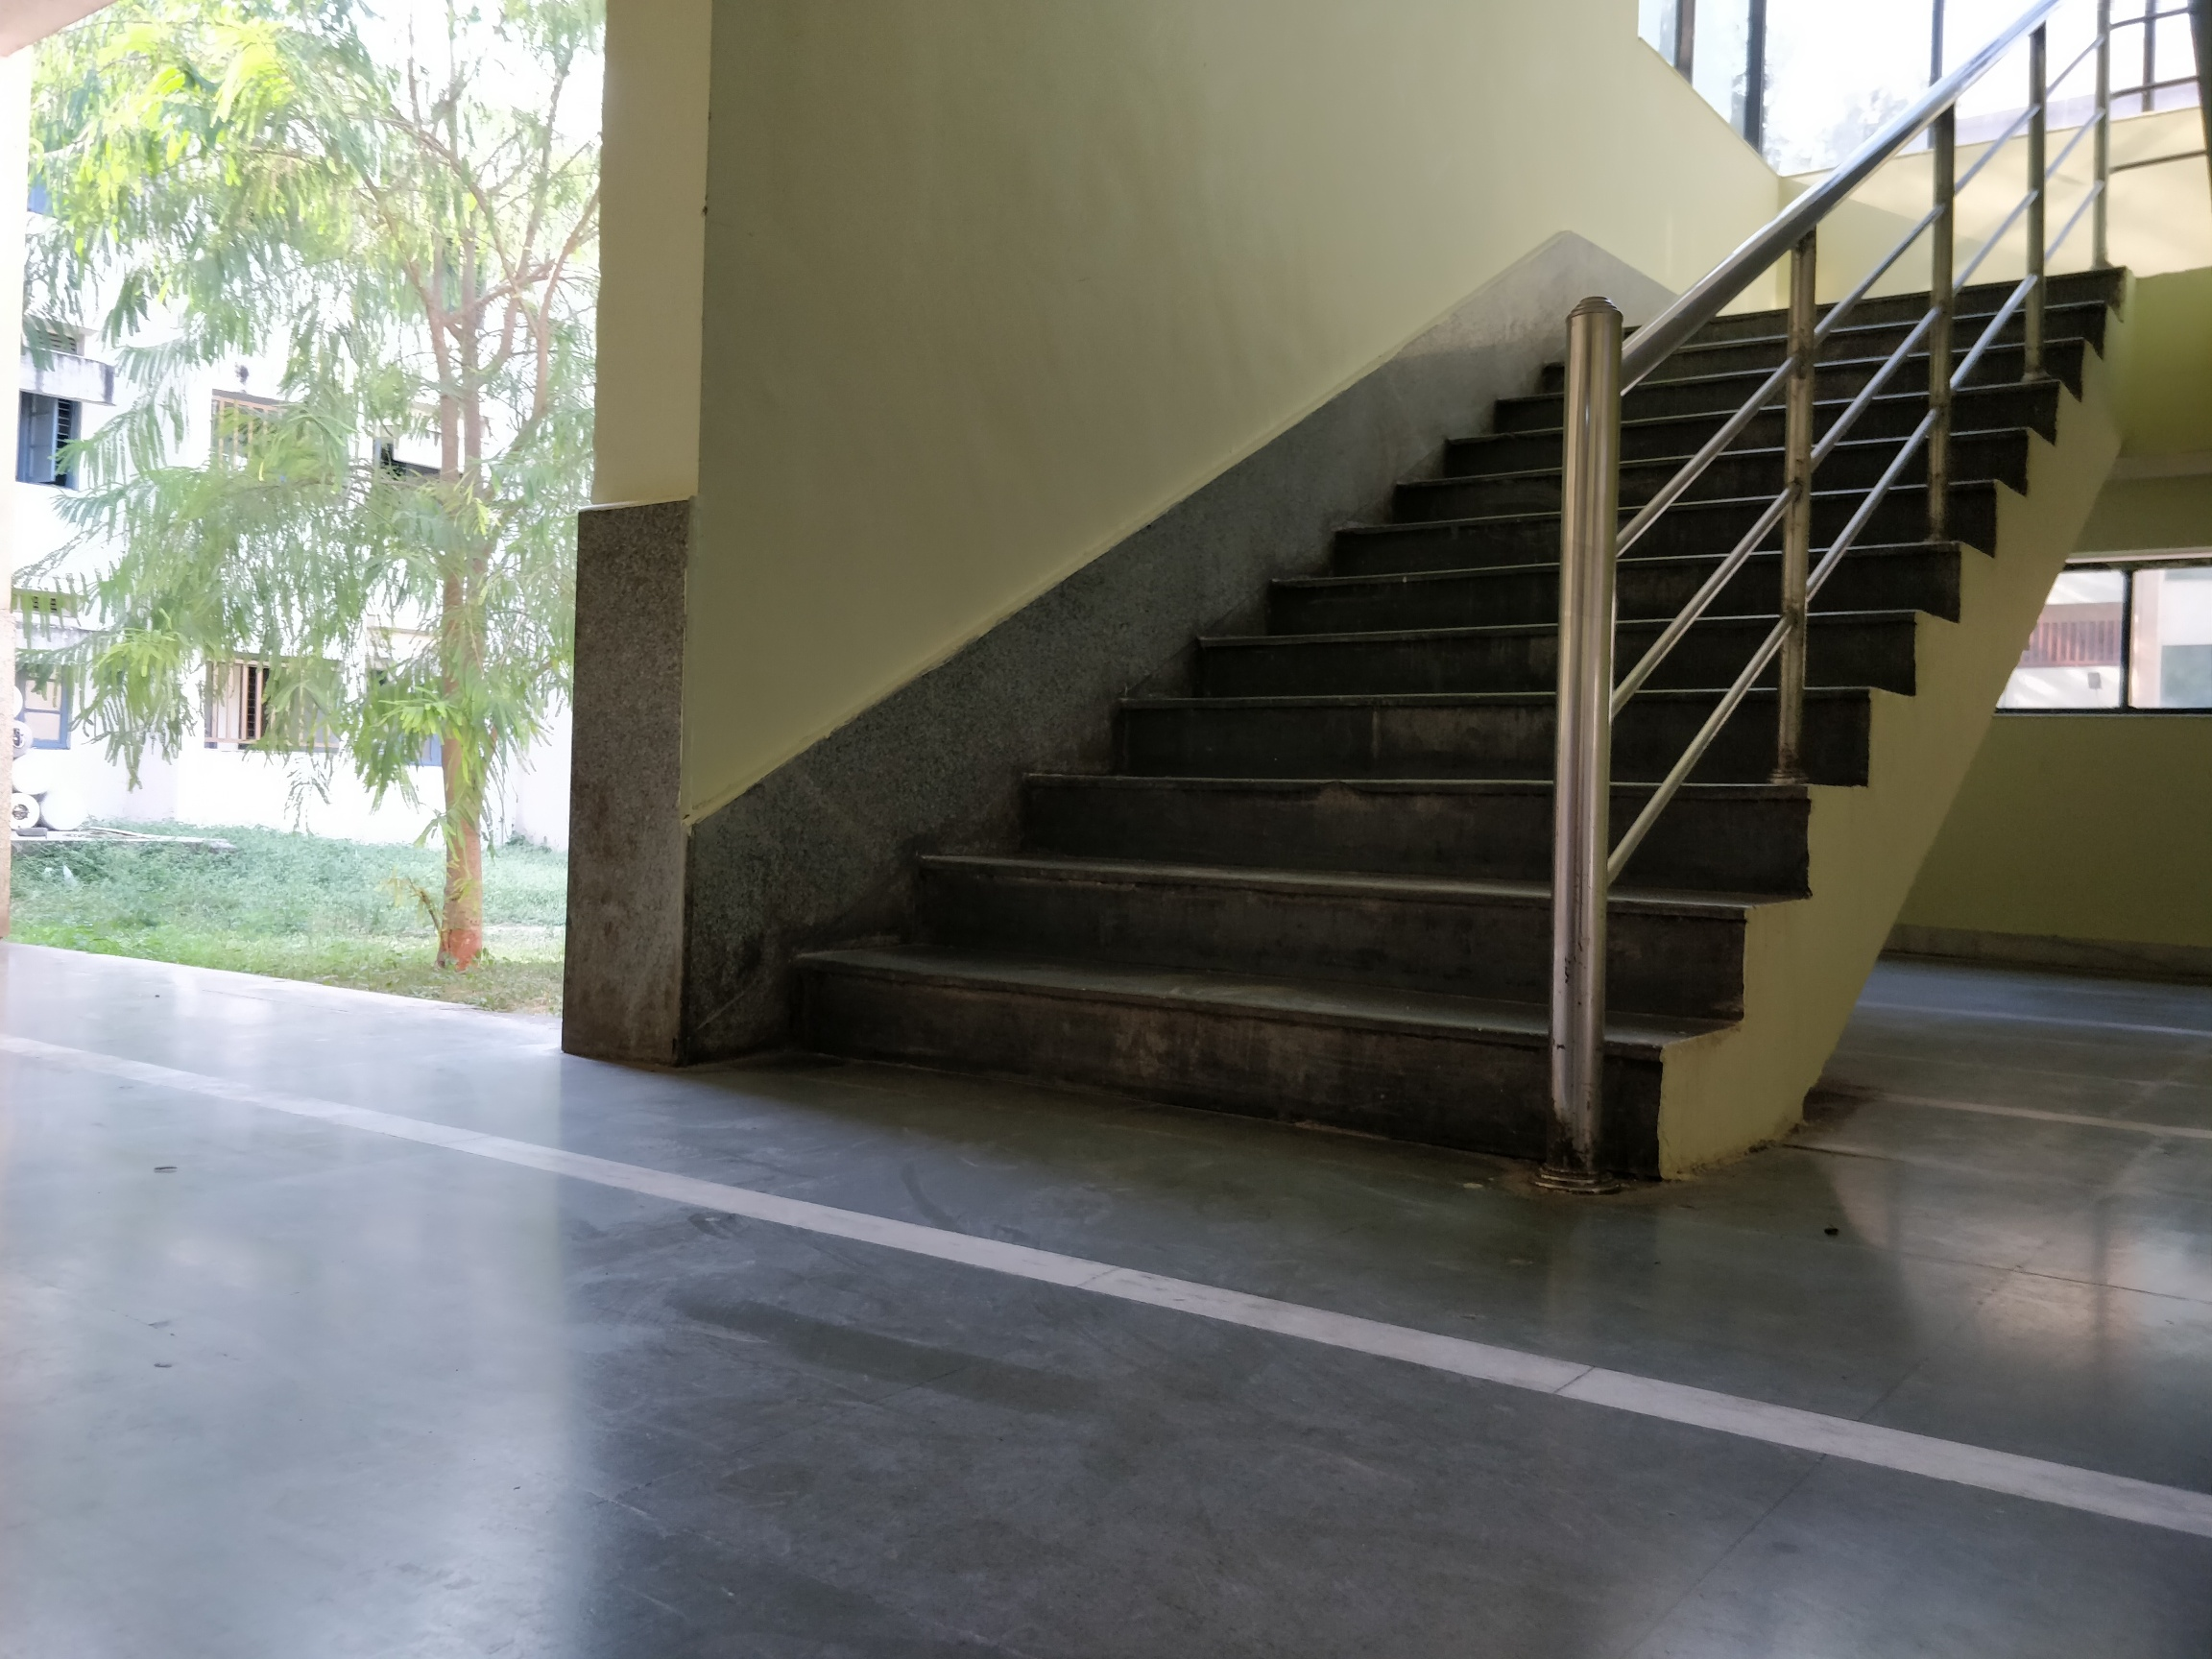stairs_up: (702, 254, 2142, 1216)
